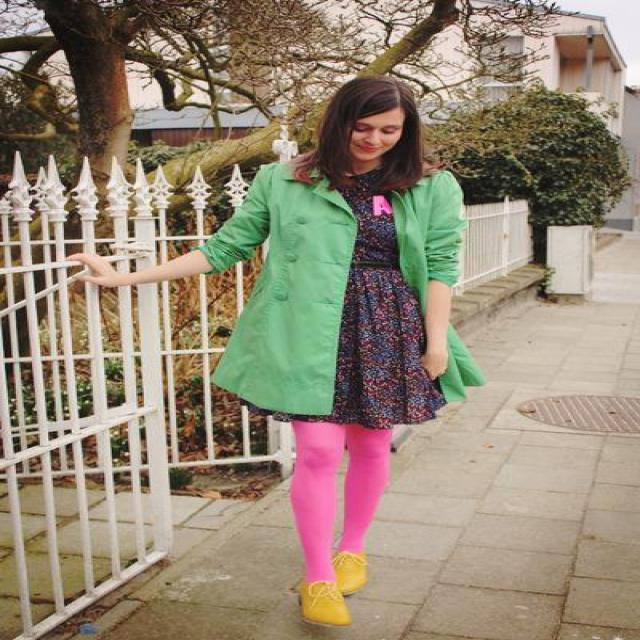dress: (259, 200, 442, 429)
jacket: (198, 151, 480, 414)
shoe: (302, 552, 365, 623)
